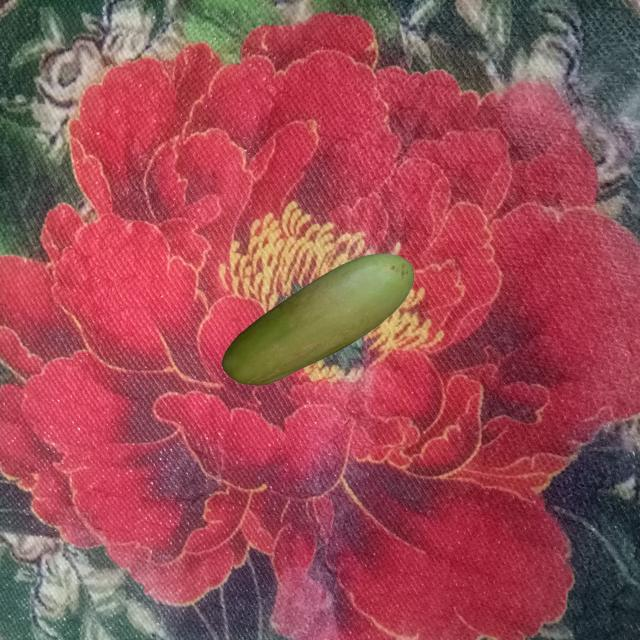Pepaya unrippen: (213, 254, 432, 389)
